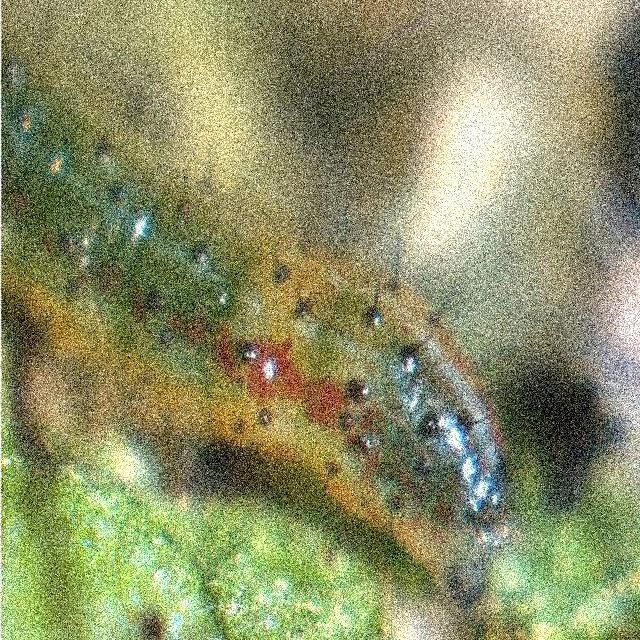gusano_cogollero: (0, 26, 519, 612)
